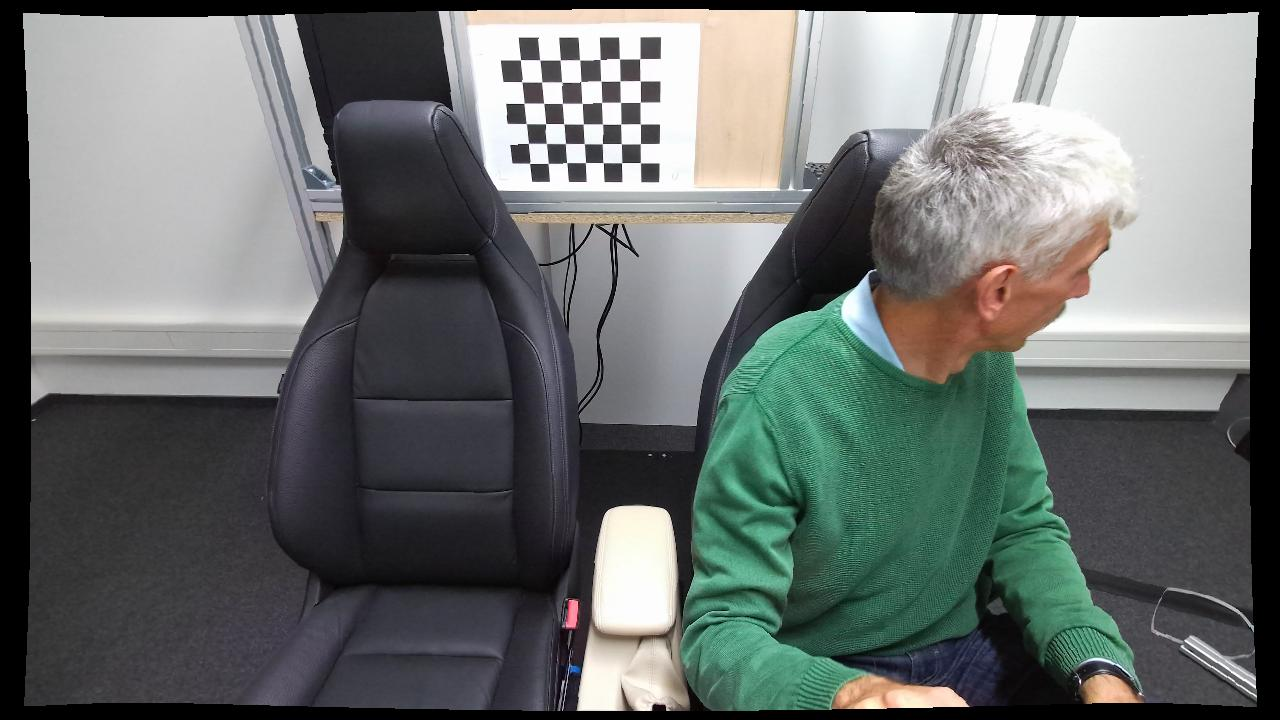Distracted: (678, 100, 1169, 716)
